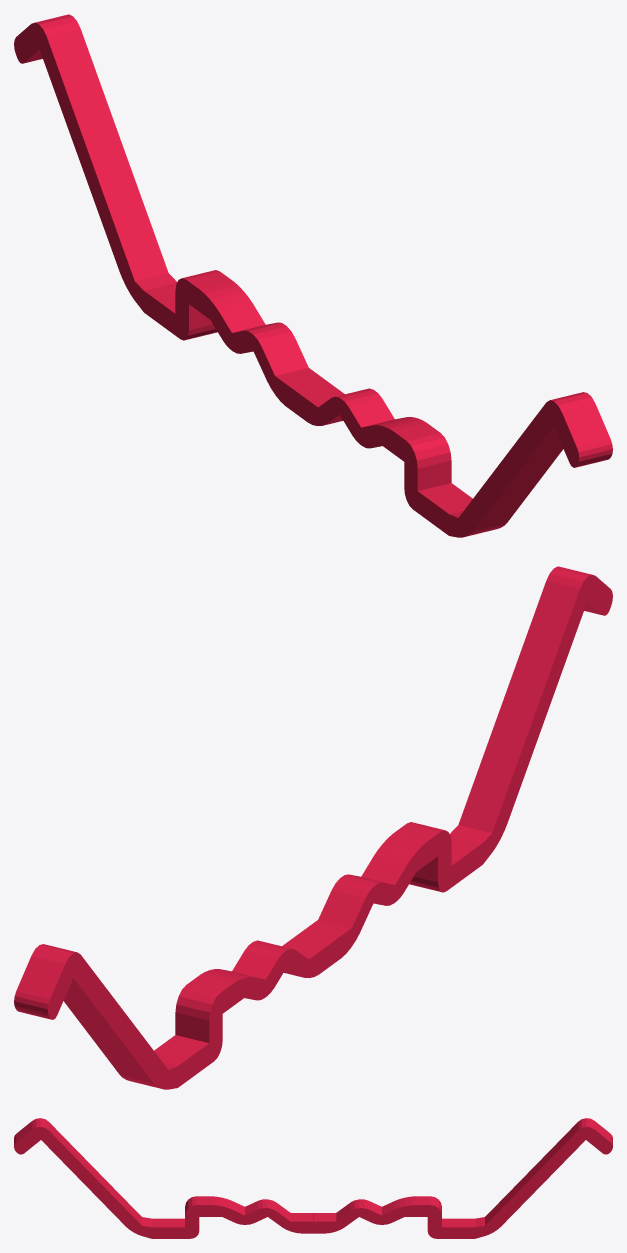
Rendered from bow.fbx.
The picture shows the model from 3 angles, top to bottom: view 1: azimuth 30°, elevation 25°; view 2: azimuth 150°, elevation 25°; view 3: azimuth 270°, elevation 25°; orthographic projection. The views are drawn at different scales.
Visible parts, largest first — view 1: bow; view 2: bow; view 3: bow.
Part boxes in pixels (bbox=[...]): bow: bbox=[14, 14, 612, 537]; bow: bbox=[14, 566, 612, 1089]; bow: bbox=[14, 1118, 612, 1238].
Bounding box in the file's own units: 26.49 × 158 × 767.
